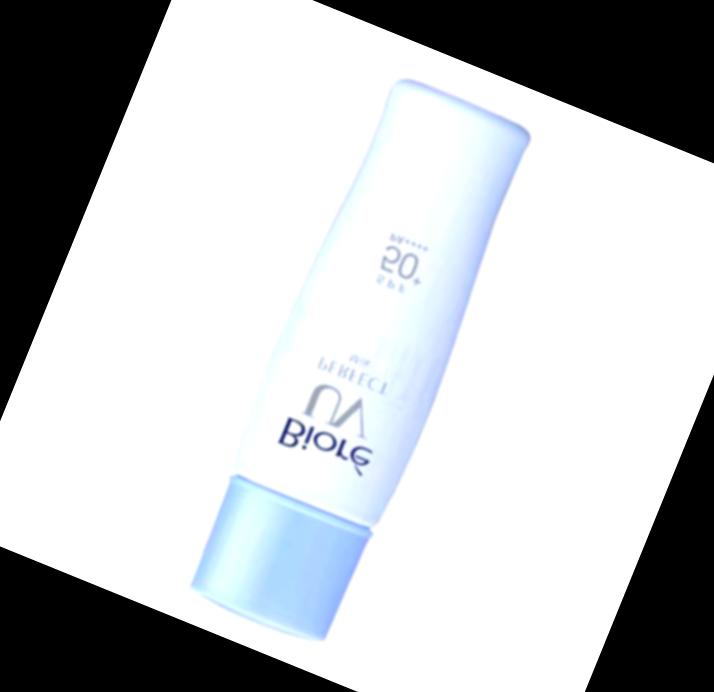cosmetic: (172, 69, 552, 655)
